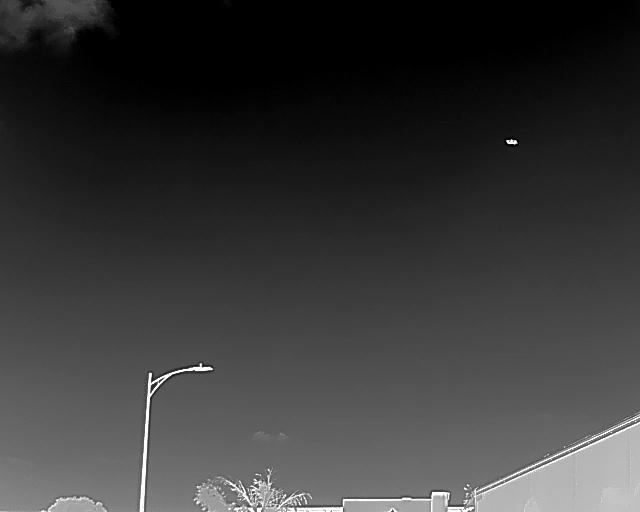fpv-drone: (504, 137, 518, 146)
